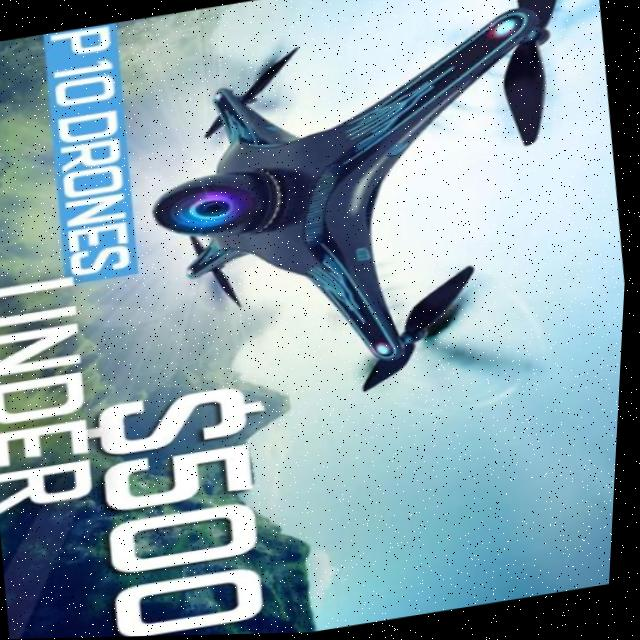drones: (70, 0, 640, 461)
